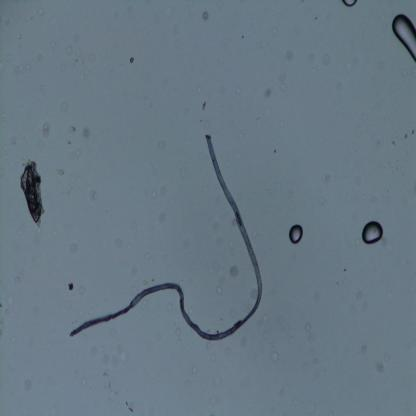Air bubble: (391, 12, 416, 64), (361, 219, 384, 247), (288, 224, 304, 244), (341, 1, 359, 10)
Background material: (17, 156, 45, 231), (112, 347, 128, 368), (374, 358, 388, 374), (122, 397, 136, 412), (20, 373, 31, 392), (278, 74, 288, 94), (157, 209, 170, 224), (229, 264, 240, 279), (267, 349, 280, 361), (285, 48, 295, 62), (12, 66, 26, 75), (156, 137, 165, 151), (359, 344, 369, 356), (42, 122, 50, 137), (87, 189, 97, 201), (70, 241, 79, 254), (56, 164, 64, 178), (199, 11, 209, 22), (66, 281, 76, 292), (170, 326, 182, 335), (158, 186, 168, 196), (354, 291, 364, 301), (215, 285, 224, 296), (303, 323, 312, 334), (65, 46, 73, 56), (190, 364, 198, 374), (101, 370, 110, 378), (84, 128, 90, 140), (75, 148, 82, 158), (265, 86, 272, 96), (38, 6, 44, 17), (351, 236, 359, 244), (201, 102, 207, 110), (128, 57, 134, 64), (142, 279, 148, 286), (404, 133, 409, 139)
Microfibre: (67, 129, 265, 343)
